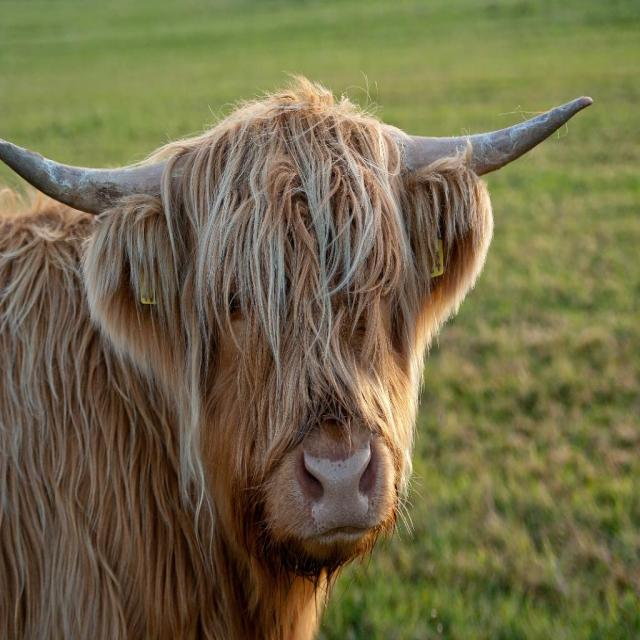Cattle: (0, 66, 594, 640)
